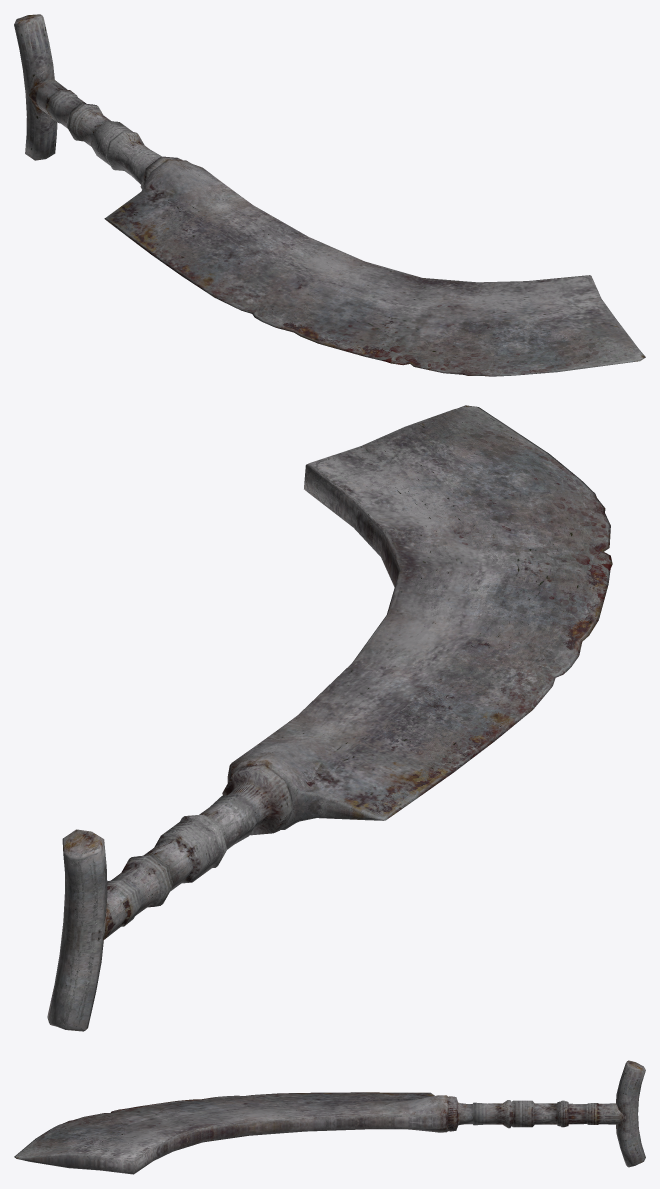
Rendered from ironcleaver.fbx.
3 renders of one model, top to bottom at view 1: azimuth 30°, elevation 25°; view 2: azimuth 150°, elevation 25°; view 3: azimuth 270°, elevation 25°, orthographic. The views are drawn at different scales.
Visible parts, largest first — view 1: WP_A_0706; view 2: WP_A_0706; view 3: WP_A_0706.
Part boxes in pixels (x1,y1,x2,y2): WP_A_0706: (14, 14, 645, 376); WP_A_0706: (47, 405, 612, 1031); WP_A_0706: (14, 1060, 645, 1174).
Bounding box in the file's own units: 35.42 × 17.68 × 102.
Materials: 1 (1 with a texture image).
